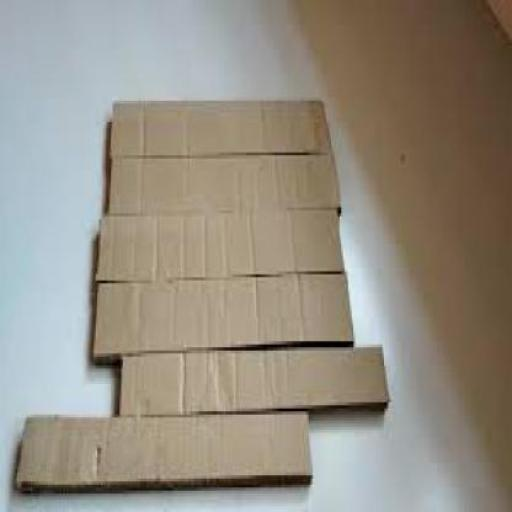cardboard: (91, 274, 355, 360), (10, 411, 312, 485), (116, 344, 389, 418), (106, 152, 340, 214), (94, 214, 343, 272), (108, 94, 329, 152)
